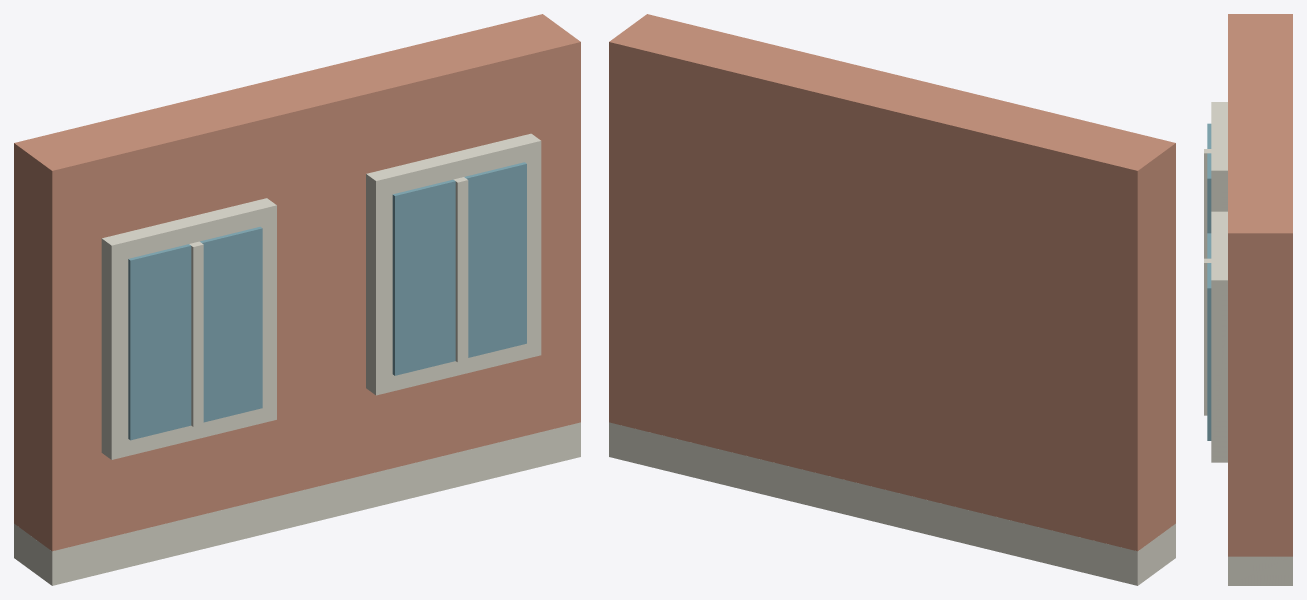
File: voxel-city-districts-paired-window-bay-f3179b4e__24798.glb
3 views of the same model, side by side, from view 1: azimuth 30°, elevation 25°; view 2: azimuth 150°, elevation 25°; view 3: azimuth 270°, elevation 25° (orthographic). The views are drawn at different scales.
Parts seen in each view (by area): view 1: paired-window-bay-brick, paired-window-bay-concrete, paired-window-bay-glass; view 2: paired-window-bay-brick, paired-window-bay-concrete; view 3: paired-window-bay-brick, paired-window-bay-concrete, paired-window-bay-glass.
Part boxes in pixels (x1,y1,x2,y2): paired-window-bay-brick: (14, 14, 580, 551); paired-window-bay-concrete: (14, 133, 580, 585); paired-window-bay-glass: (128, 162, 526, 440); paired-window-bay-brick: (609, 14, 1175, 551); paired-window-bay-concrete: (609, 422, 1175, 585); paired-window-bay-brick: (1228, 14, 1292, 556); paired-window-bay-concrete: (1204, 102, 1292, 585); paired-window-bay-glass: (1207, 123, 1211, 440).
Bounding box in the file's own units: 4 × 3 × 0.6851.
